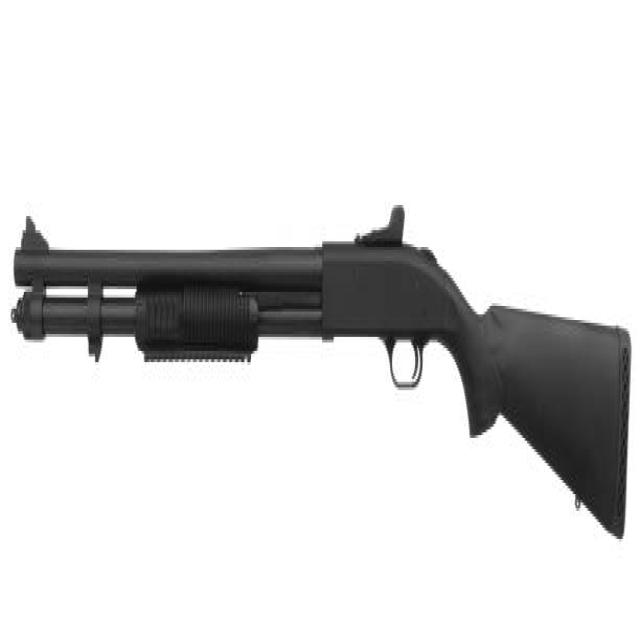rifle: (9, 200, 633, 583)
